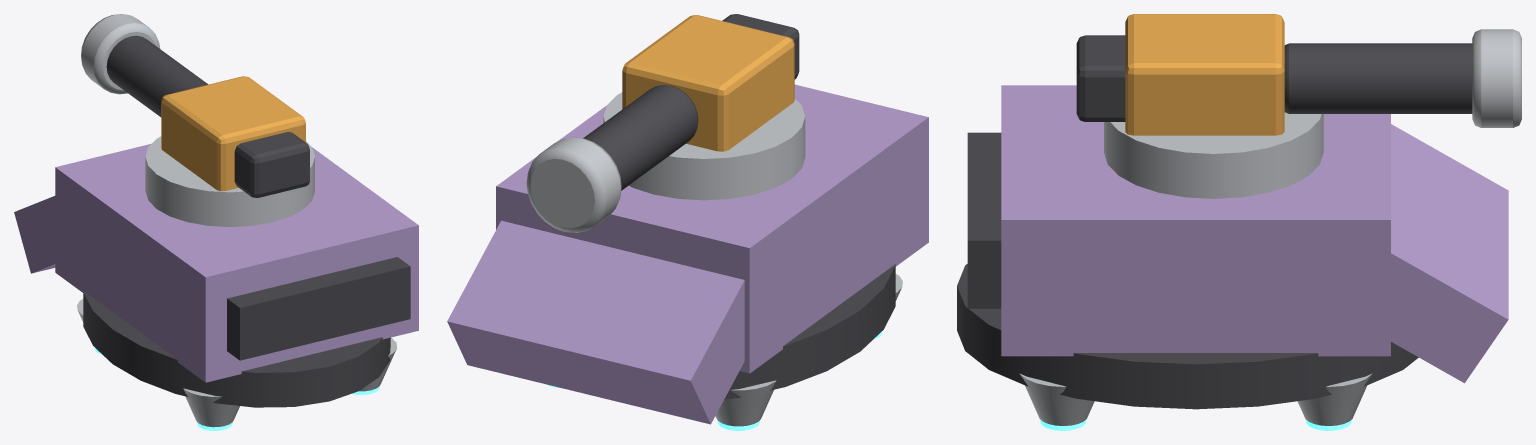
File: robot_medium_cannon_hover.glb
The picture shows the model from 3 angles, left to right: view 1: azimuth 30°, elevation 25°; view 2: azimuth 150°, elevation 25°; view 3: azimuth 270°, elevation 25°; orthographic projection. The views are drawn at different scales.
Parts seen in each view (by area): view 1: robot_medium_cannon_hover, robot_medium_cannon_hover_gun; view 2: robot_medium_cannon_hover, robot_medium_cannon_hover_gun; view 3: robot_medium_cannon_hover, robot_medium_cannon_hover_gun.
Part boxes in pixels (x1=…): robot_medium_cannon_hover: x1=14, y1=136, x2=418, y2=430; robot_medium_cannon_hover_gun: x1=81, y1=14, x2=309, y2=197; robot_medium_cannon_hover: x1=447, y1=84, x2=928, y2=430; robot_medium_cannon_hover_gun: x1=526, y1=14, x2=799, y2=232; robot_medium_cannon_hover: x1=957, y1=85, x2=1508, y2=430; robot_medium_cannon_hover_gun: x1=1076, y1=14, x2=1521, y2=135.
Size of what is drawn, in the model's own units: 3.36 by 3.4 by 5.1.
